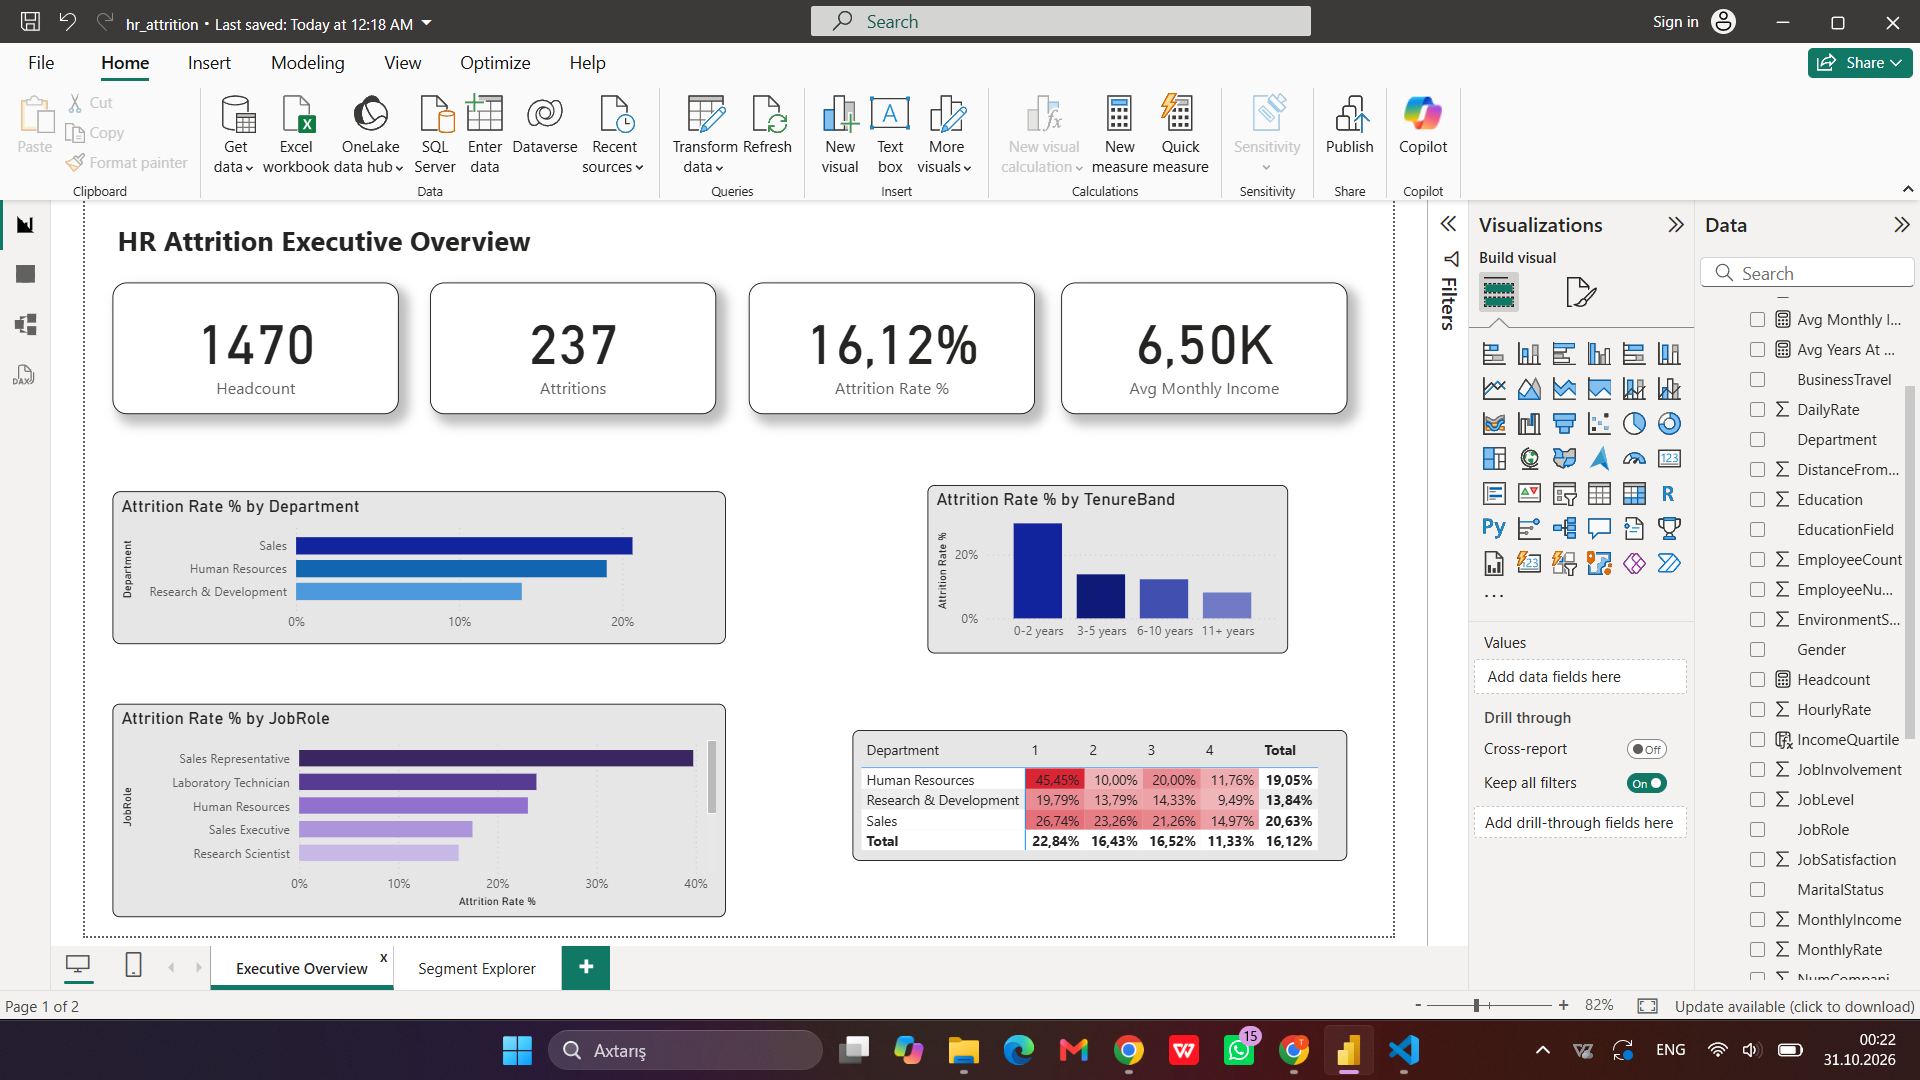

What the dashboard file says about the page in this screenshot:
{"tool":"powerbi","page":{"name":"Executive Overview","canvas":[1280,720],"ordinal":0},"visuals":[{"type":"card","fields":{"Values":["employees.Headcount"]},"box":[27.4,81,279.9,129],"z":0},{"type":"card","fields":{"Values":["employees.Avg Monthly Income"]},"box":[955.1,81,279.9,129],"z":1000},{"type":"card","fields":{"Values":["employees.Attrition Rate %"]},"box":[649.1,81,279.9,129],"z":2000},{"type":"card","fields":{"Values":["employees.Attritions"]},"box":[337.6,81,279.9,129],"z":3000},{"type":"barChart","fields":{"Y":["employees.Attrition Rate %"],"Category":["employees.Department"]},"box":[27.4,285.4,599.7,149.6],"z":4000},{"type":"clusteredBarChart","fields":{"Category":["employees.JobRole"],"Y":["employees.Attrition Rate %"]},"box":[27.4,492.6,599.7,208.6],"z":5000},{"type":"columnChart","fields":{"Category":["employees.TenureBand"],"Y":["employees.Attrition Rate %"]},"box":[824.7,278.6,352.7,164.7],"z":6000},{"type":"pivotTable","fields":{"Rows":["employees.Department"],"Columns":["employees.JobSatisfaction"],"Values":["employees.Attrition Rate %"]},"box":[750.6,518.7,484.4,127.6],"z":7000},{"type":"textbox","box":[27.4,16.5,797.3,50.8],"z":8000}]}

Visuals, with their boxes on the page's 1280x720 design canvas (x1, y1, x2, y2). These are canvas units, not pixel positions in the 1920x1080 screenshot, which may show the page scaled, cropped or inside an application window:
card - employees.Headcount: rect(27, 81, 307, 210)
card - employees.Avg Monthly Income: rect(955, 81, 1235, 210)
card - employees.Attrition Rate %: rect(649, 81, 929, 210)
card - employees.Attritions: rect(338, 81, 618, 210)
barChart - employees.Attrition Rate % x employees.Department: rect(27, 285, 627, 435)
clusteredBarChart - employees.JobRole x employees.Attrition Rate %: rect(27, 493, 627, 701)
columnChart - employees.TenureBand x employees.Attrition Rate %: rect(825, 279, 1177, 443)
pivotTable - employees.Department x employees.JobSatisfaction: rect(751, 519, 1235, 646)
textbox: rect(27, 16, 825, 67)
